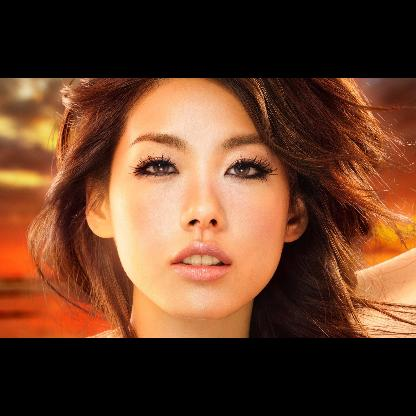Female: (86, 78, 308, 318)
